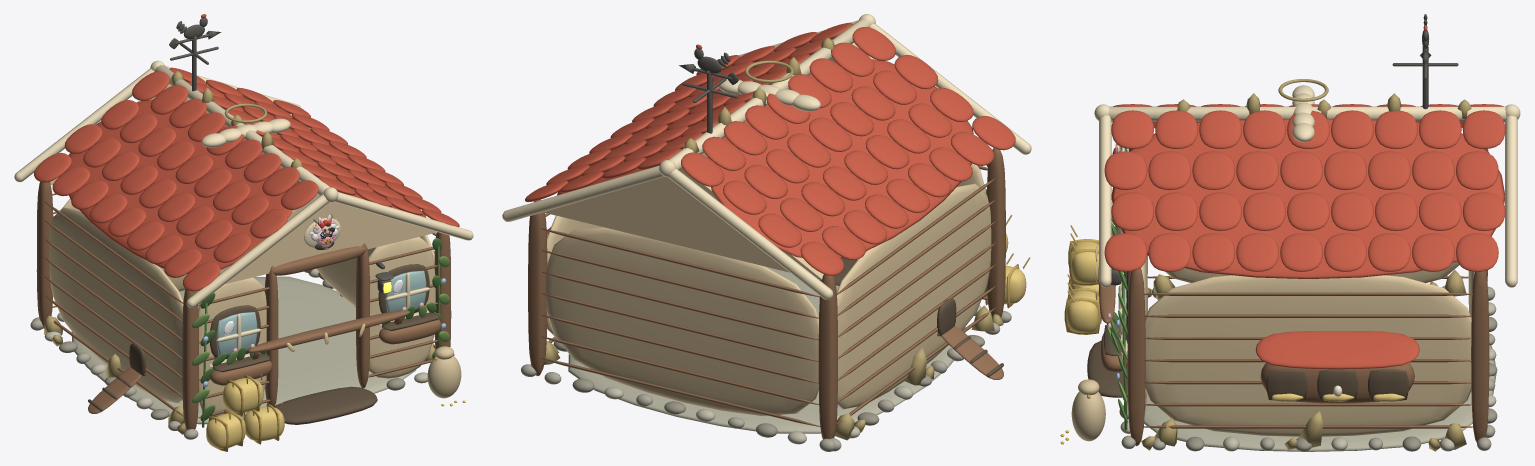
The model's file is granja_refugios.glb.
The picture shows the model from 3 angles, left to right: view 1: azimuth 30°, elevation 25°; view 2: azimuth 150°, elevation 25°; view 3: azimuth 270°, elevation 25°; orthographic projection. The views are drawn at different scales.
Parts seen in each view (by area): view 1: pared izq, piso, faldon -1, fronton 1.75, frente 1, frente -1, umbral, poste -1.761.76, poste -1.76-1.76, alero -1, percha, jamba 1 (+61 smaller); view 2: pared fondo, pared izq, faldon -1, fronton -1.75, piso, poste 1.76-1.76, poste -1.76-1.76, alero atras -1, poste -1.761.76, alero atras 1, caballete, rampa (+54 smaller); view 3: pared der, faldon 1, techo nidales, piso, poste 1.761.76, poste 1.76-1.76, caballete, alero atras 1, alero 1, caja nidales, teja 111, teja 114 (+51 smaller).
Part boxes in pixels (x1,y1,x2,y2): pared izq: (49,207,183,403); piso: (71,276,416,424); faldon -1: (65,99,292,273); fronton 1.75: (219,194,437,284); frente 1: (368,237,435,378); frente -1: (198,277,266,416); umbral: (274,386,377,424); poste -1.761.76: (182,289,198,430); poste -1.76-1.76: (36,182,53,328); alero -1: (186,194,328,307); percha: (247,310,410,352); jamba 1: (356,243,369,388); pared fondo: (546,227,818,416); pared izq: (837,183,991,409); faldon -1: (711,59,973,258); fronton -1.75: (543,168,823,280); piso: (568,266,965,433); poste 1.76-1.76: (528,199,547,376); poste -1.76-1.76: (818,274,837,439); alero atras -1: (668,168,833,299); poste -1.761.76: (987,148,1005,317); alero atras 1: (502,165,663,221); caballete: (668,18,870,170); rampa: (941,326,1003,379); pared der: (1145,275,1471,436); faldon 1: (1111,119,1504,278); techo nidales: (1255,331,1419,369); piso: (1127,345,1496,451); poste 1.761.76: (1127,268,1145,446); poste 1.76-1.76: (1471,271,1489,442); caballete: (1108,106,1506,121); alero atras 1: (1505,115,1517,287); alero 1: (1099,115,1111,287); caja nidales: (1260,362,1414,403); teja 111: (1412,151,1454,189); teja 114: (1280,151,1322,189).
Bounding box in the file's own units: 4.78 × 4.06 × 4.71.
